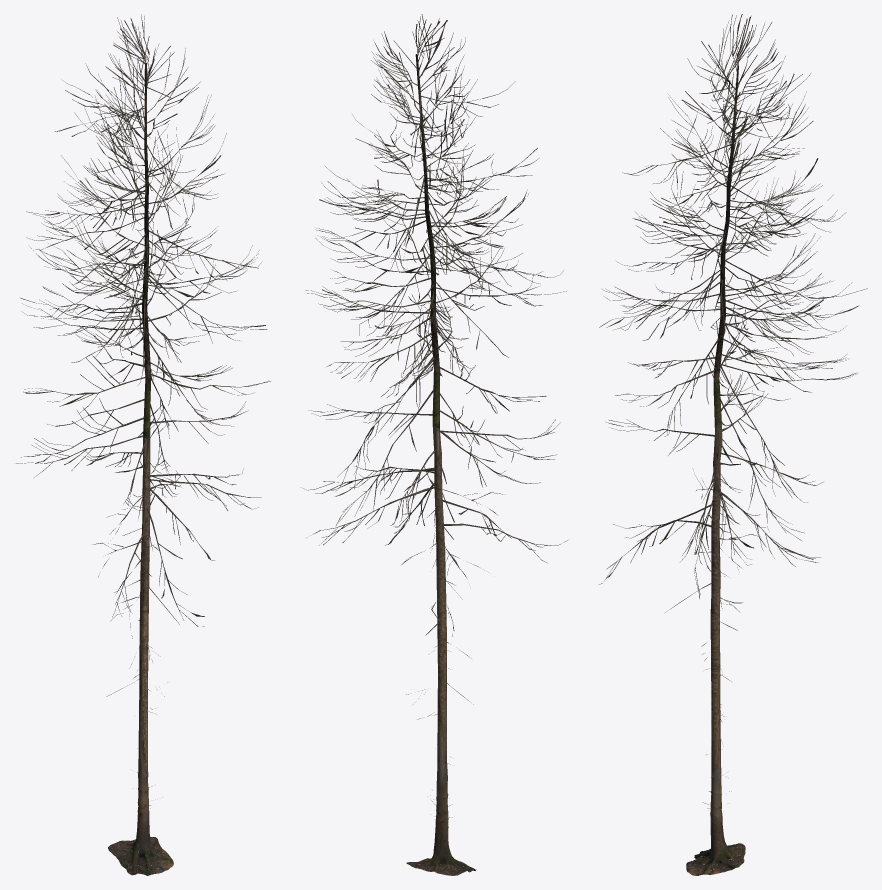
The model's file is fir_tree_01_a_near.gltf.
The picture shows the model from 3 angles, left to right: view 1: azimuth 30°, elevation 25°; view 2: azimuth 150°, elevation 25°; view 3: azimuth 270°, elevation 25°; orthographic projection. The views are drawn at different scales.
Parts seen in each view (by area): view 1: fir_tree_01_a_LOD0.001; view 2: fir_tree_01_a_LOD0.001; view 3: fir_tree_01_a_LOD0.001.
Boxes of the visible parts, bbox=[...] form: fir_tree_01_a_LOD0.001: bbox=[16, 14, 270, 875]; fir_tree_01_a_LOD0.001: bbox=[301, 14, 567, 875]; fir_tree_01_a_LOD0.001: bbox=[599, 14, 867, 875].
Bounding box in the file's own units: 5.46 × 18.5 × 5.31.
3 materials, 3 textured.
